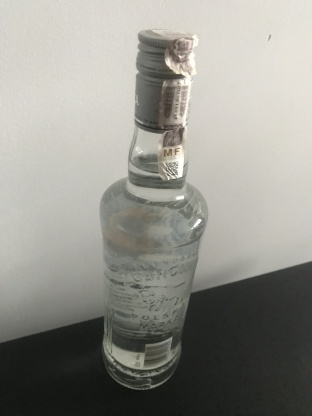nakretka: (133, 25, 200, 134)
